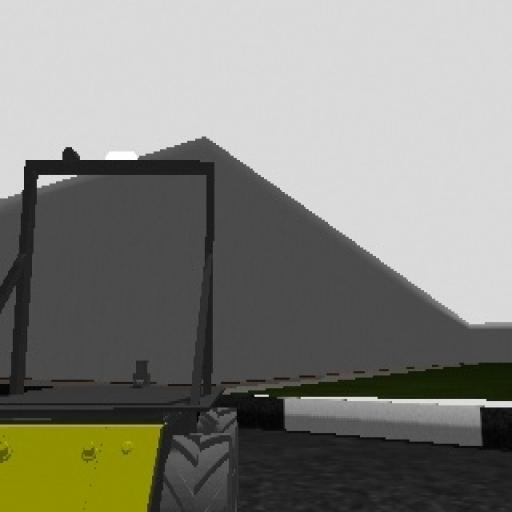huskya200: (0, 94, 242, 512)
